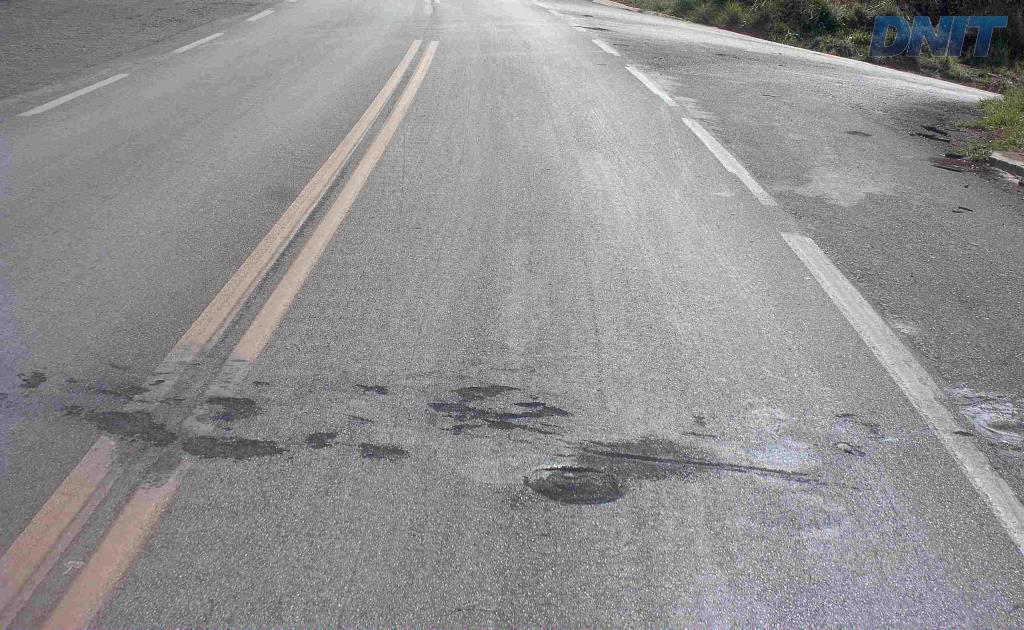pothole: (421, 380, 581, 442), (574, 446, 818, 477), (515, 459, 622, 506), (183, 431, 288, 464), (201, 391, 256, 425), (832, 409, 884, 444), (356, 438, 411, 460), (346, 380, 399, 396), (303, 429, 339, 449), (831, 439, 866, 456), (250, 376, 272, 388)
